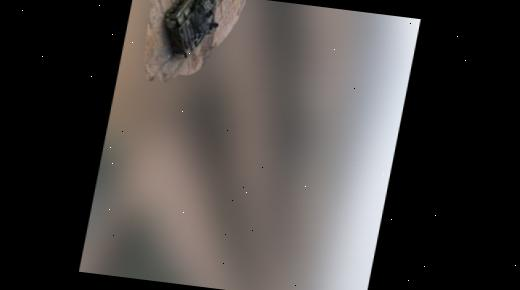tank: (153, 0, 228, 65)
